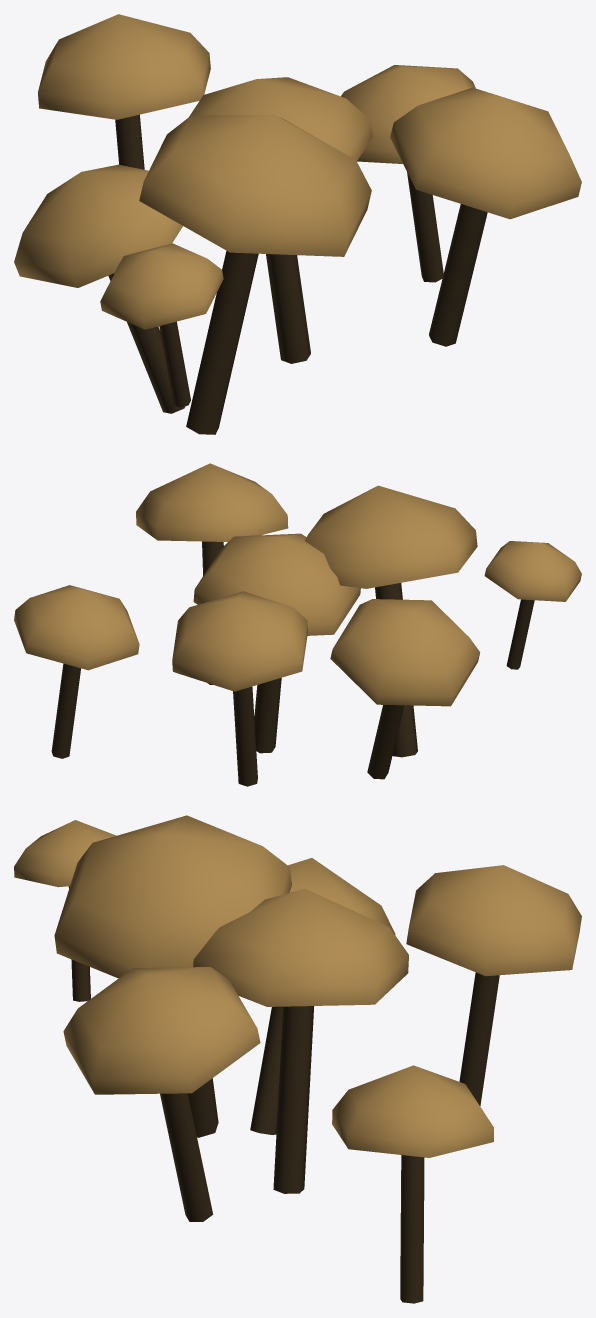
File: Mushrooms small many.fbx
The picture shows the model from 3 angles, top to bottom: view 1: azimuth 30°, elevation 25°; view 2: azimuth 150°, elevation 25°; view 3: azimuth 270°, elevation 25°; orthographic projection. The views are drawn at different scales.
Visible parts, largest first — view 1: Mushrooms_small_many; view 2: Mushrooms_small_many; view 3: Mushrooms_small_many.
Boxes of the visible parts, bbox=[...] form: Mushrooms_small_many: bbox=[14, 14, 581, 434]; Mushrooms_small_many: bbox=[14, 463, 581, 786]; Mushrooms_small_many: bbox=[14, 815, 581, 1303].
Size of the model in its own units: 0.5169 by 0.2951 by 0.4638.
